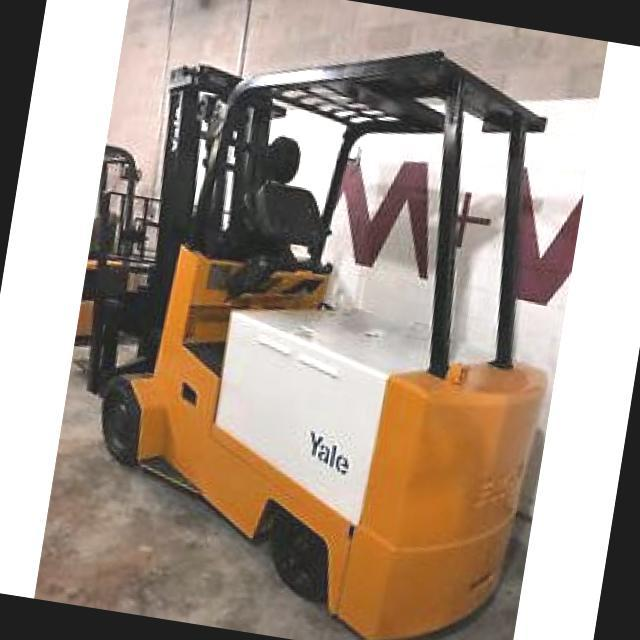forklift: (65, 2, 562, 594)
